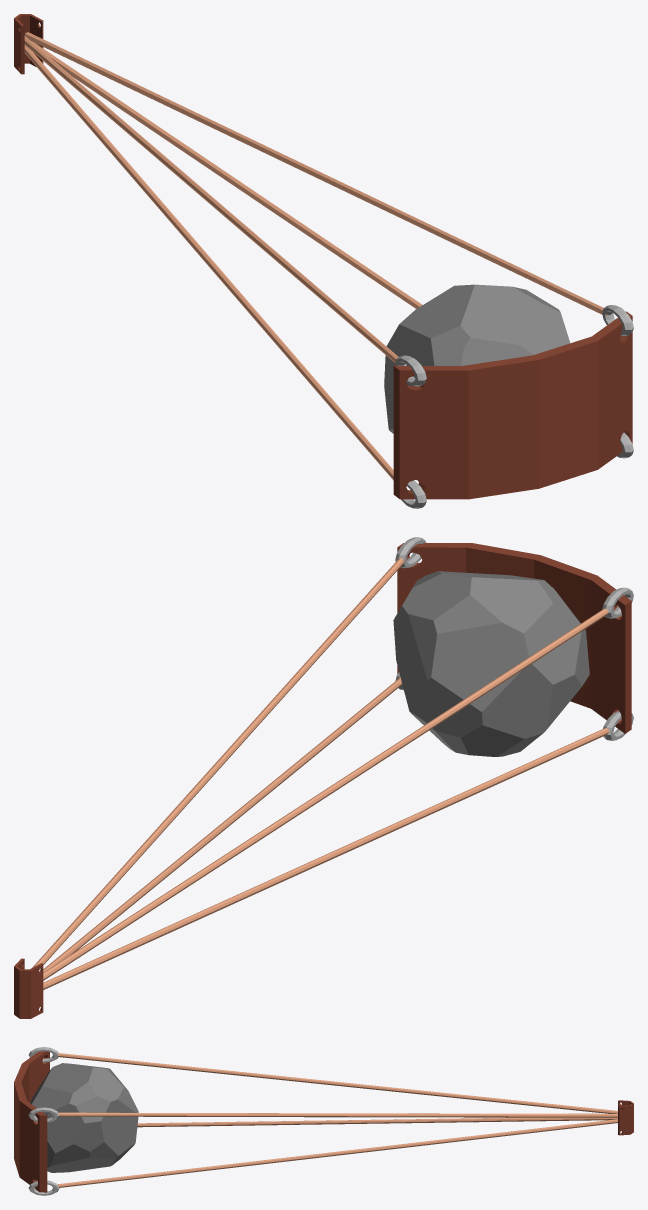
File: OldSchool_Slingshot.fbx
The picture shows the model from 3 angles, top to bottom: view 1: azimuth 30°, elevation 25°; view 2: azimuth 150°, elevation 25°; view 3: azimuth 270°, elevation 25°; orthographic projection. The views are drawn at different scales.
Parts seen in each view (by area): view 1: Slingshot, Stone_1; view 2: Slingshot, Stone_1; view 3: Slingshot, Stone_1.
Boxes of the visible parts, x1,y1,x2,y2 form: Slingshot: (14, 14, 633, 508); Stone_1: (384, 284, 570, 433); Slingshot: (14, 537, 633, 1018); Stone_1: (393, 571, 589, 756); Slingshot: (14, 1047, 633, 1195); Stone_1: (30, 1063, 138, 1172).
Size of the model in its own units: 375 by 260 by 1464.
